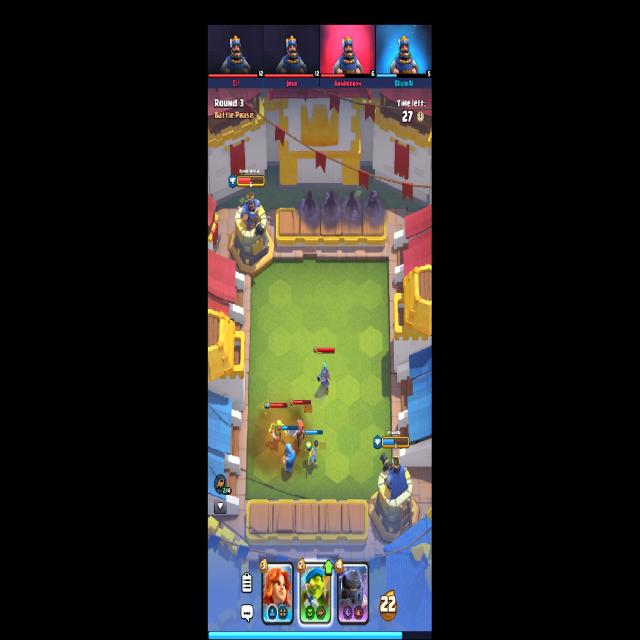card_mega_knight: (337, 562, 369, 624)
card_spear_goblin: (299, 560, 332, 626)
card_valkyrie: (262, 562, 293, 623)
goblin: (268, 418, 288, 444)
musketeer: (316, 362, 333, 394)
spear_goblin: (305, 439, 318, 466)
valkyrie: (287, 419, 306, 446)
wizard: (283, 444, 296, 474)
